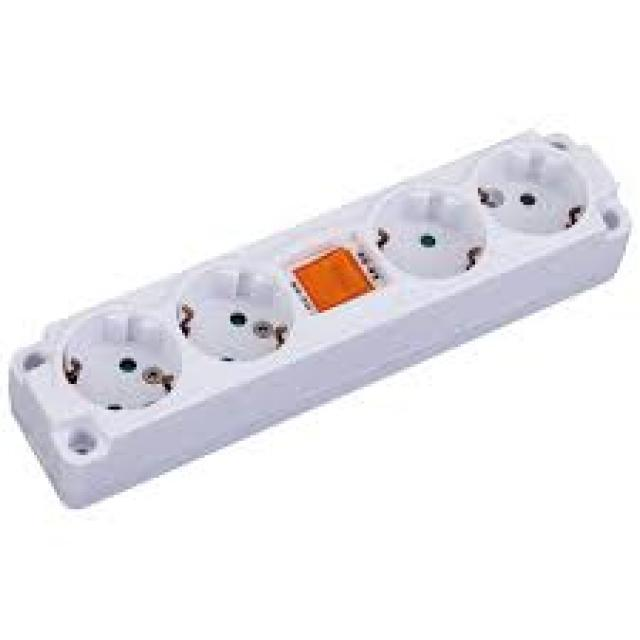typeb: (14, 108, 629, 560)
